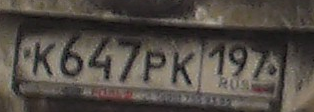character: (86, 27, 113, 80), (59, 29, 86, 81), (115, 35, 141, 87), (168, 47, 196, 89), (31, 41, 58, 79), (143, 46, 167, 87), (249, 41, 272, 79), (207, 37, 227, 76), (229, 41, 249, 78)
